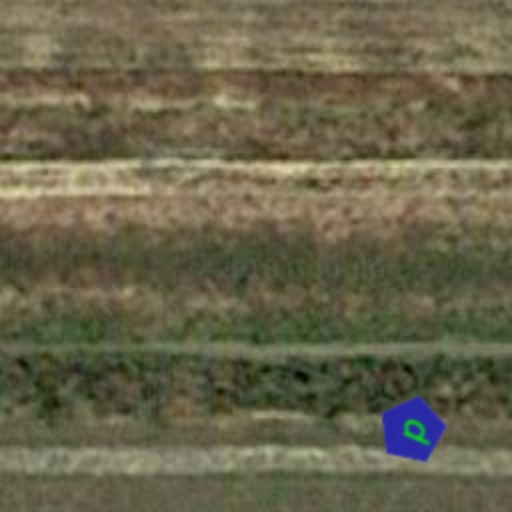pentagon: (370, 388, 454, 472)
